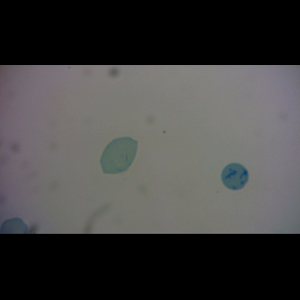aggregate reticulocyte: (220, 162, 250, 191)
erythrocyte: (99, 136, 140, 176)
